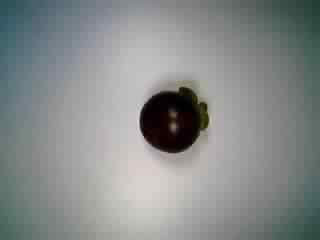mangosteen: (133, 79, 215, 158)
